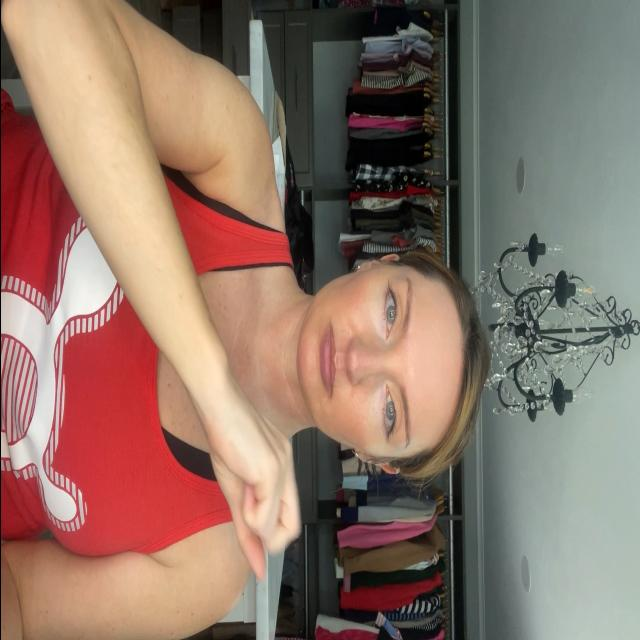Rock: (192, 395, 298, 573)
